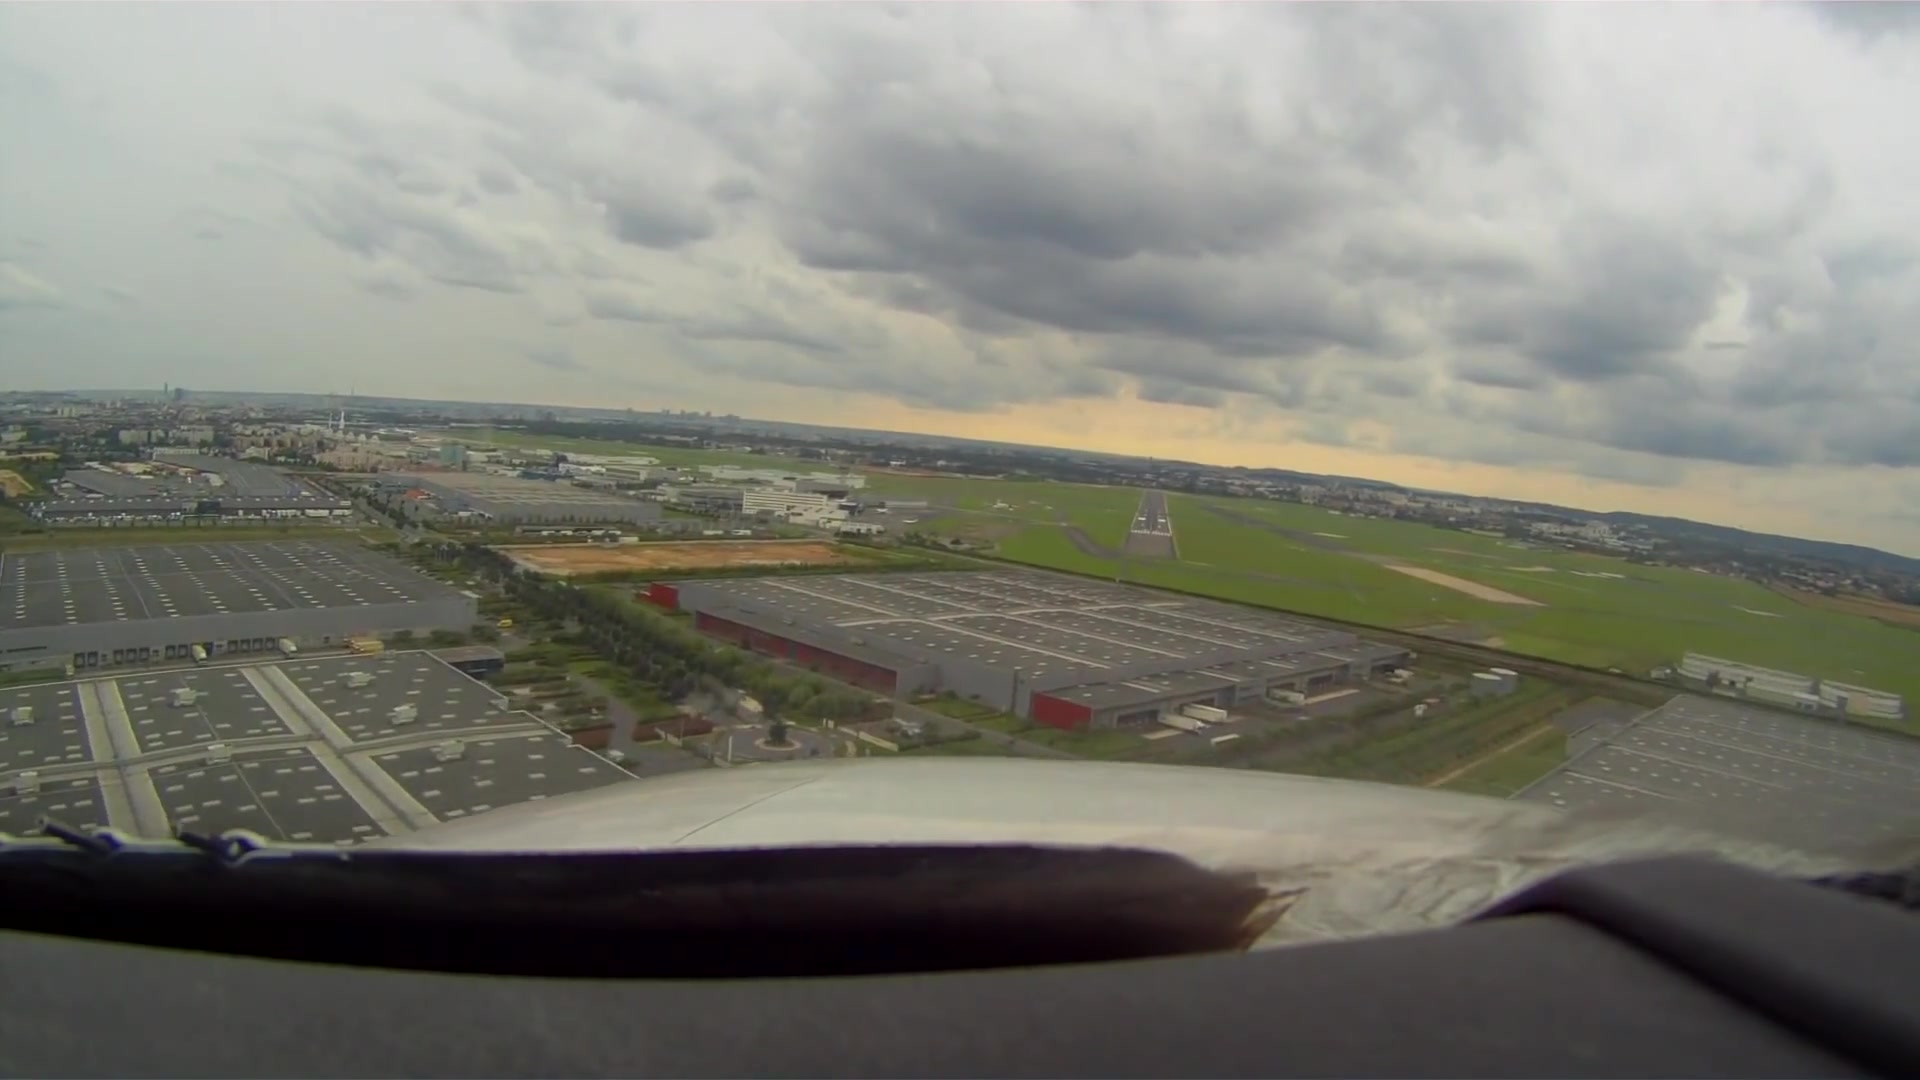runway: (1127, 489, 1174, 538)
